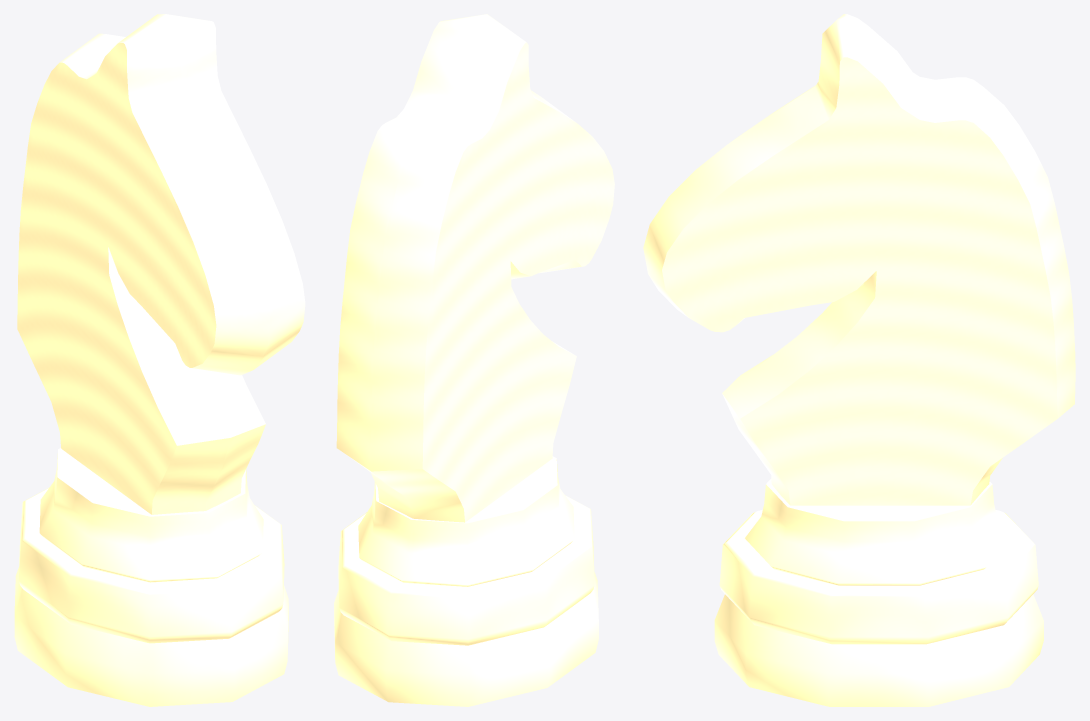
The model's file is item-1-10.glb.
3 views of the same model, side by side, from view 1: azimuth 30°, elevation 25°; view 2: azimuth 150°, elevation 25°; view 3: azimuth 270°, elevation 25° (orthographic). The views are drawn at different scales.
Parts seen in each view (by area): view 1: BlackHorse; view 2: BlackHorse; view 3: BlackHorse.
Part boxes in pixels (x1=…): BlackHorse: x1=14, y1=14, x2=305, y2=706; BlackHorse: x1=334, y1=14, x2=614, y2=706; BlackHorse: x1=643, y1=14, x2=1075, y2=706.
Size of the model in its own units: 0.0718 by 0.1965 by 0.1211.
Materials: 1 (1 with a texture image).
